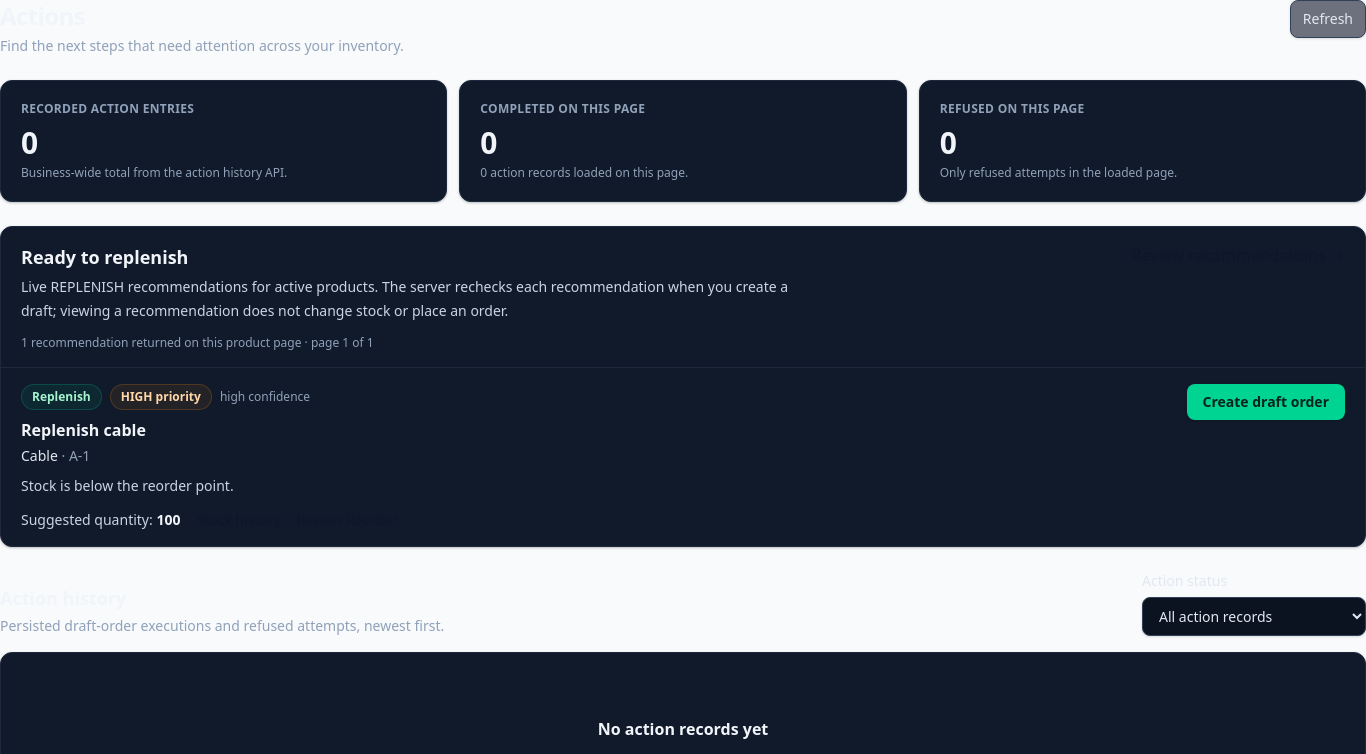
Test: Action Center - the dialog cannot be dismissed mid-request › allows dismissal after a failure, since nothing was created
Click the button "Create draft order" at (1266, 402), box [1186,384,1345,420]
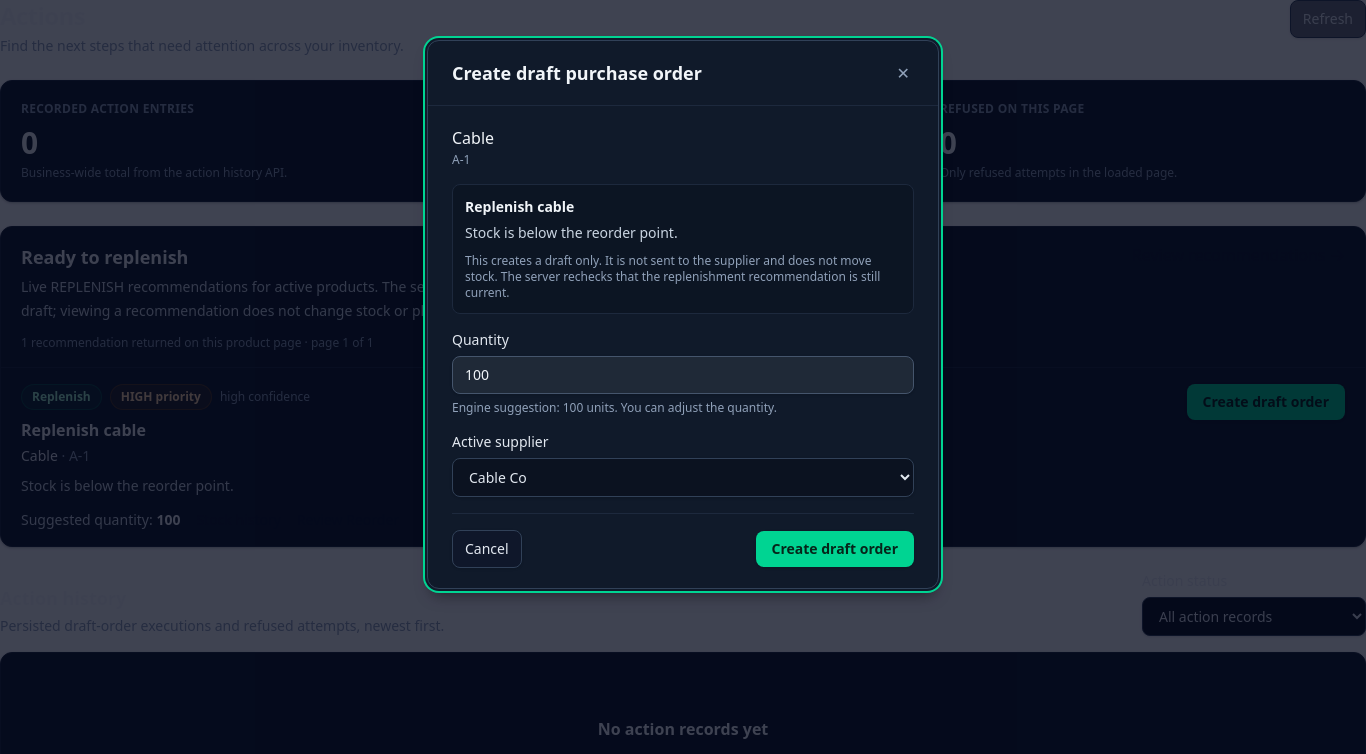
Click the button "Create draft order" at (835, 549), box [756,531,914,567]
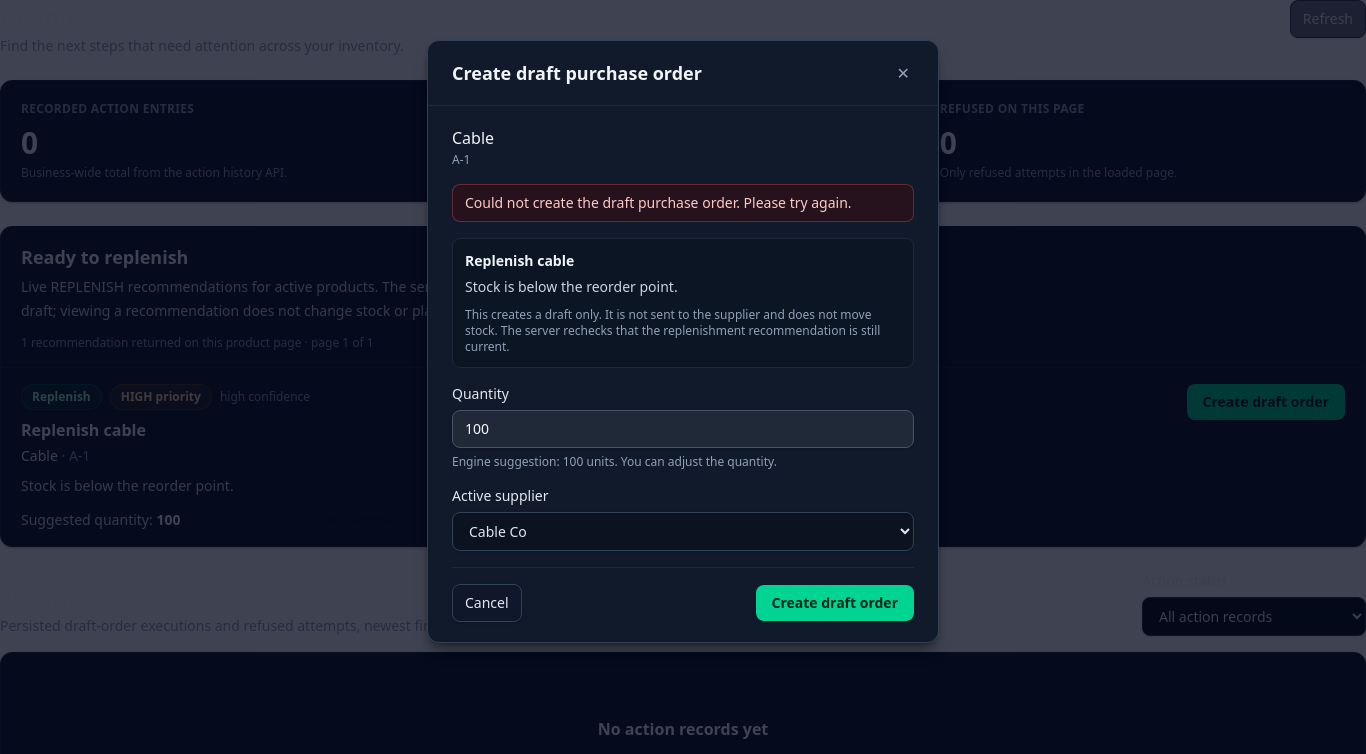
Check: the message "Could not create the draft purchase order. Please try again." is shown, box [452,184,914,222]
Click the button "Cancel" at (487, 603), box [452,584,522,622]
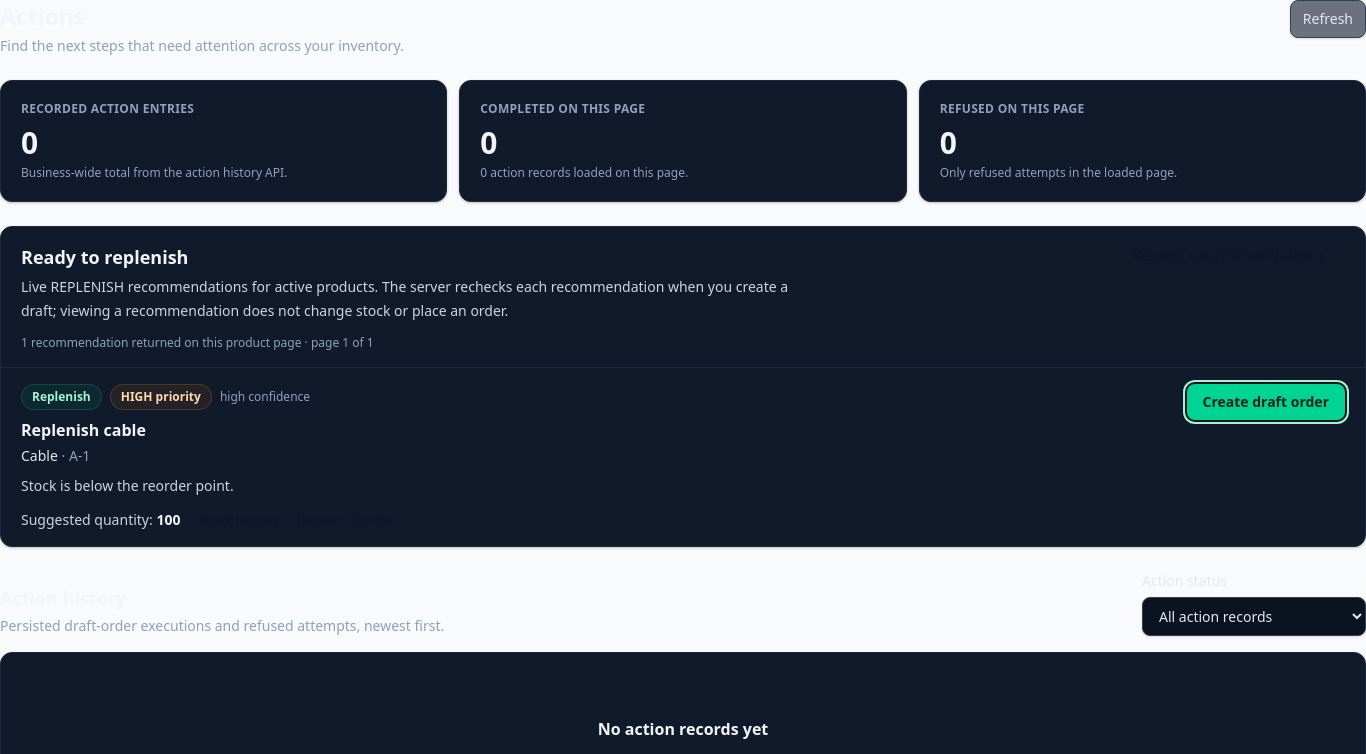
Check: the dialog is gone
